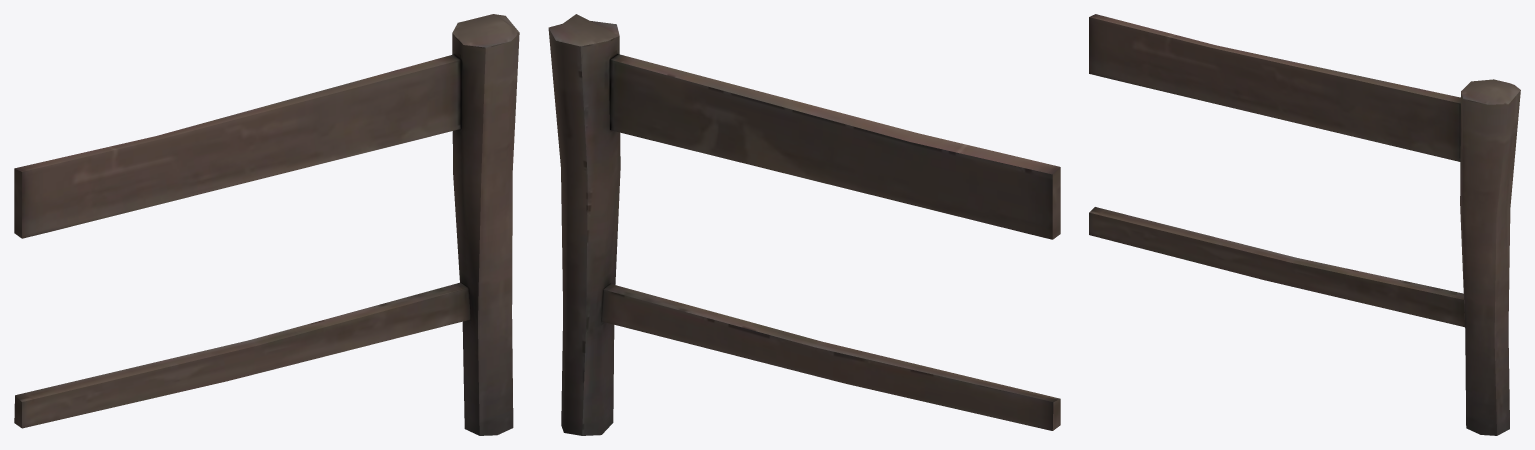
3 views of the same model, side by side, from view 1: azimuth 30°, elevation 25°; view 2: azimuth 150°, elevation 25°; view 3: azimuth 330°, elevation 25° (orthographic). The views are drawn at different scales.
Parts seen in each view (by area): view 1: body0_model0_lod0_mesh0; view 2: body0_model0_lod0_mesh0; view 3: body0_model0_lod0_mesh0.
Part boxes in pixels (x1,y1,x2,y2): body0_model0_lod0_mesh0: [14, 14, 519, 435]; body0_model0_lod0_mesh0: [548, 14, 1060, 435]; body0_model0_lod0_mesh0: [1089, 14, 1520, 435].
Size of the model in its own units: 74.55 by 58.15 by 8.33.
Materials: 1 (1 with a texture image).
